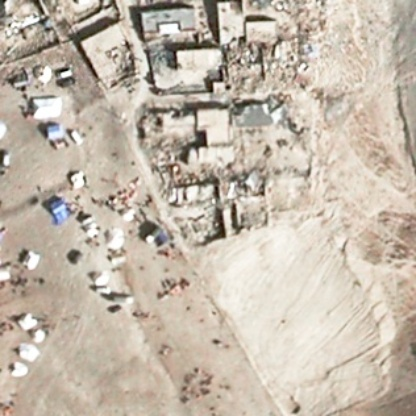collapsed: (222, 31, 318, 92), (152, 163, 272, 208), (175, 203, 272, 247), (135, 104, 184, 166), (264, 92, 298, 128), (118, 50, 143, 90), (145, 44, 176, 68)
